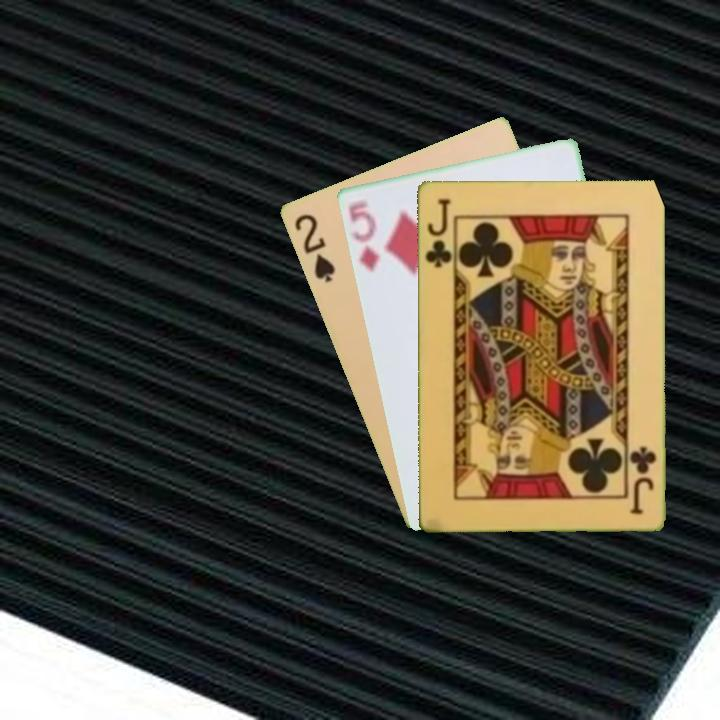2s: (290, 210, 338, 285)
5d: (345, 195, 382, 275)
Jc: (422, 194, 454, 270), (626, 442, 658, 516)
